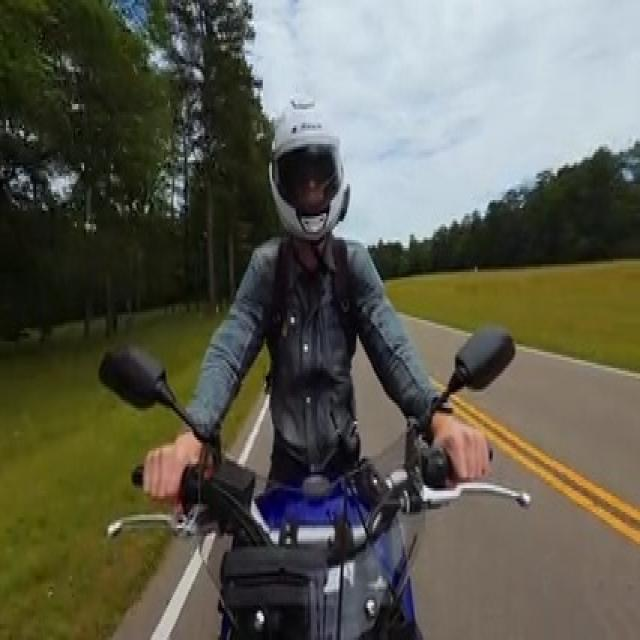Helmet_Wearer: (254, 82, 361, 242)
Person: (139, 79, 491, 513)
